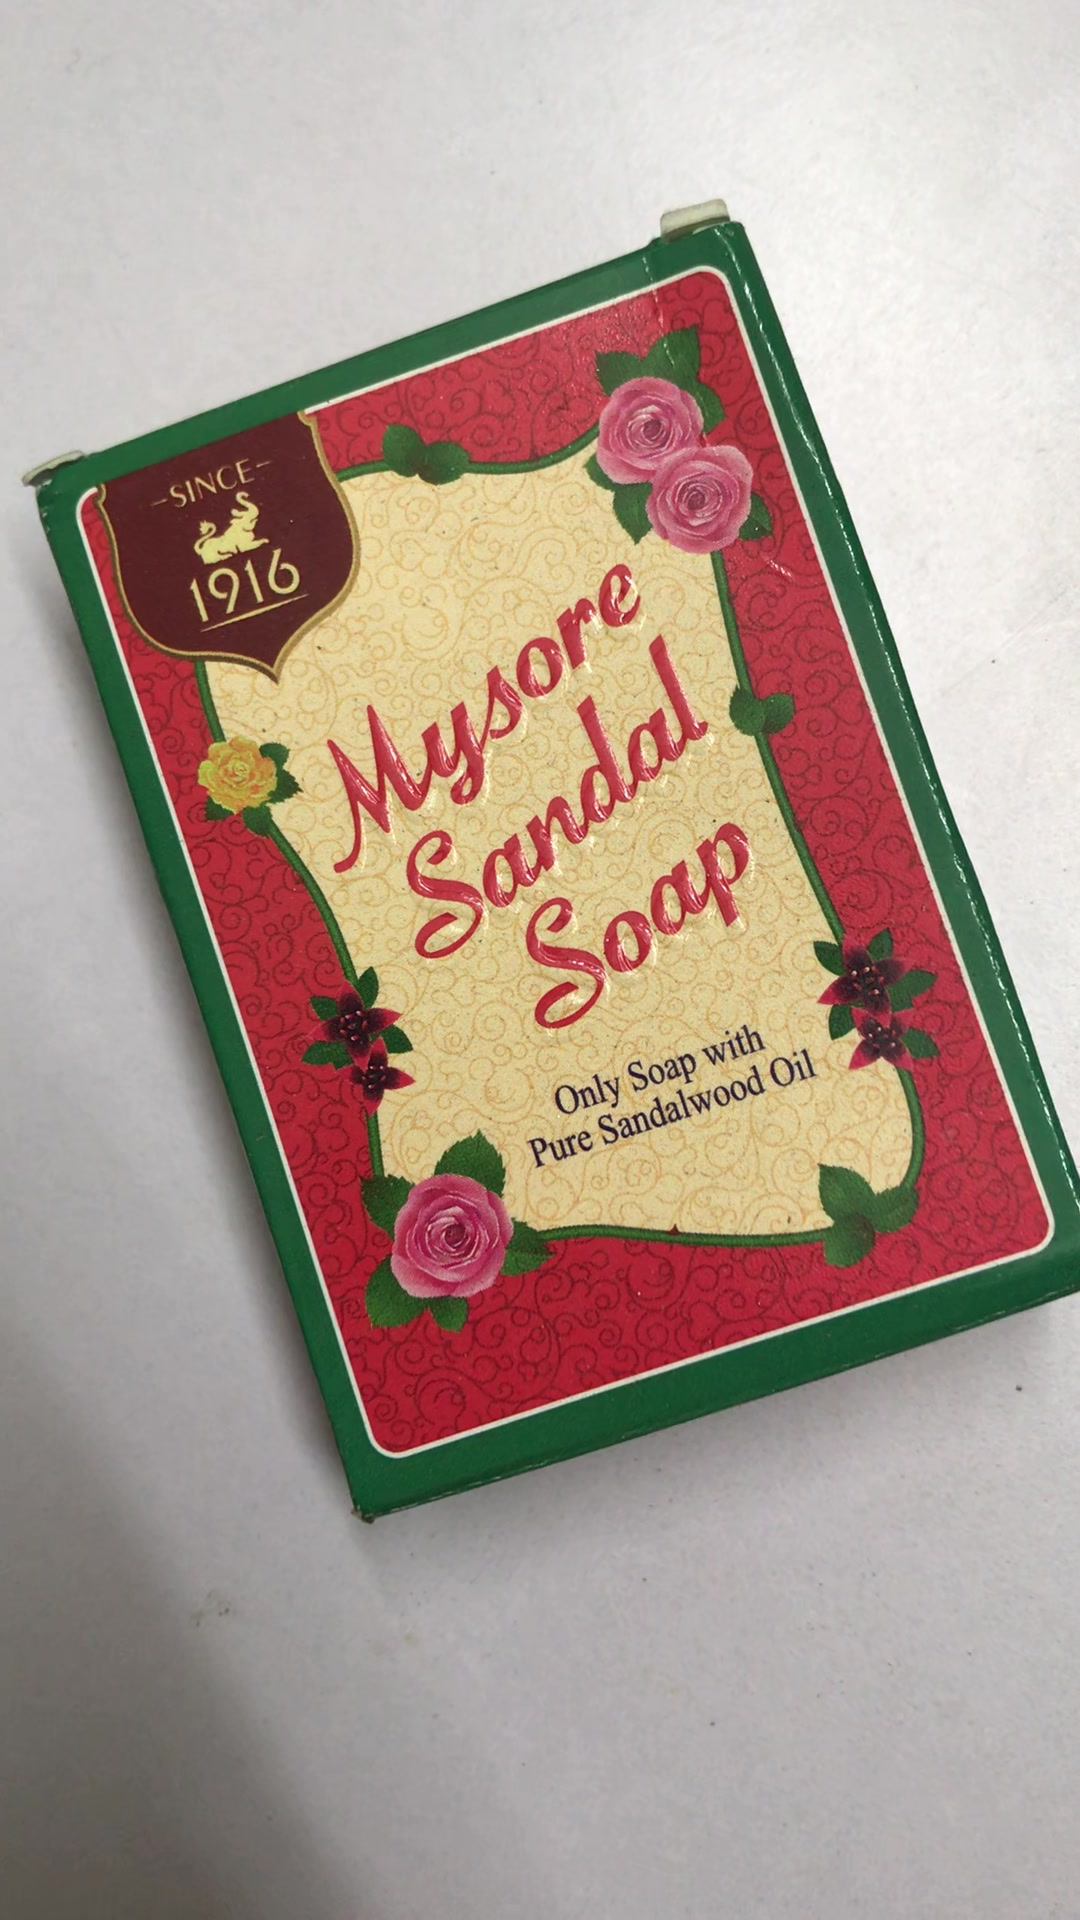mysore sandal soap: (38, 225, 1080, 1511)
